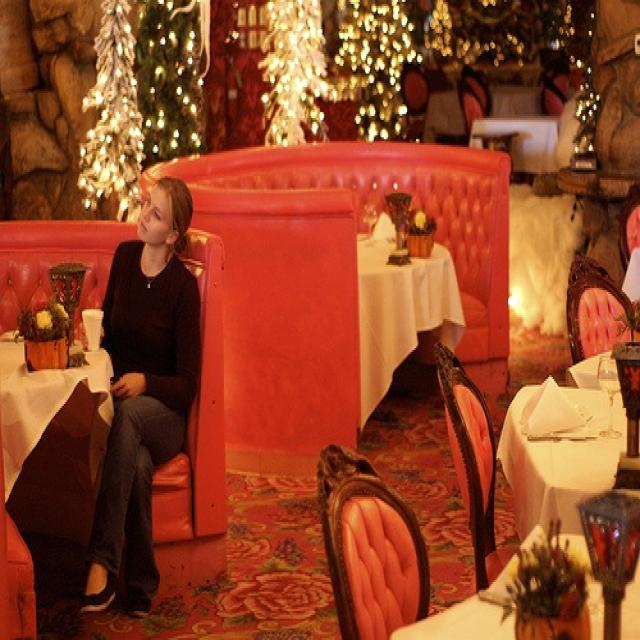chair: (318, 441, 430, 638), (435, 342, 521, 594), (566, 256, 636, 366), (456, 76, 486, 138), (404, 58, 432, 120), (620, 178, 638, 271), (462, 66, 492, 114), (538, 79, 570, 118)
diningtable: (389, 530, 639, 638), (357, 228, 467, 435), (493, 383, 639, 532), (0, 326, 118, 504), (571, 344, 639, 391)
sofa: (136, 137, 512, 478), (0, 217, 229, 638)
